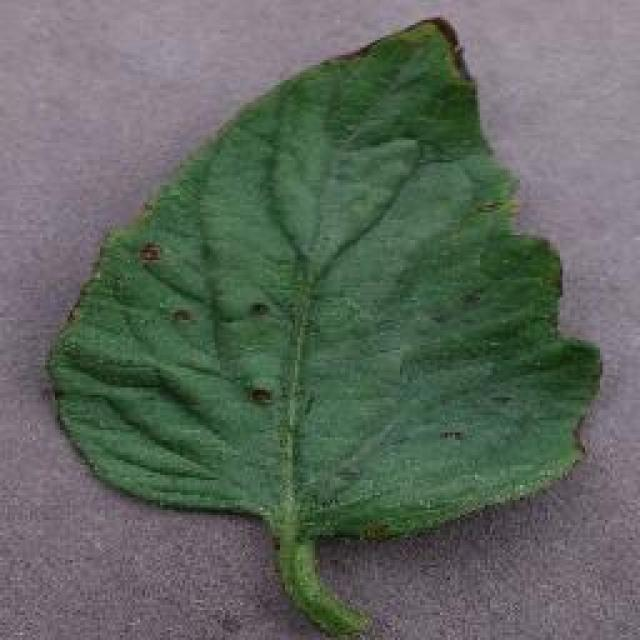bacterial spot: (44, 16, 607, 635)
